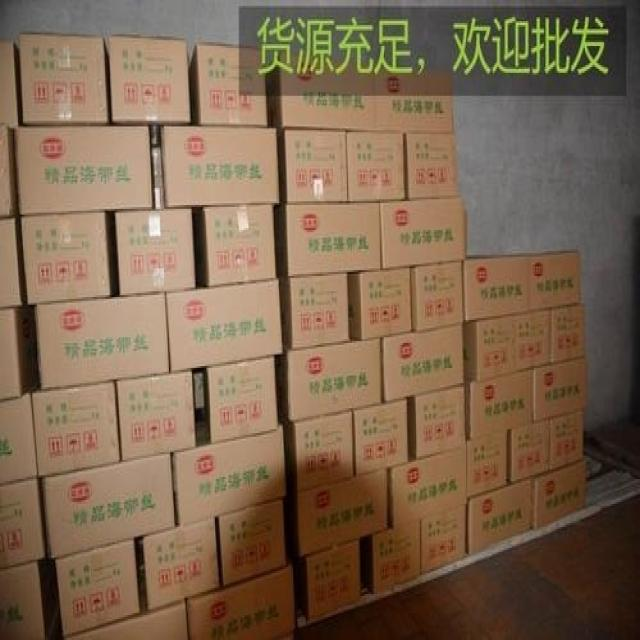box: (41, 454, 177, 558), (173, 404, 287, 525), (35, 293, 169, 389), (14, 125, 152, 215), (166, 280, 284, 374), (161, 125, 279, 207), (18, 213, 111, 309), (294, 468, 389, 560), (55, 538, 140, 638), (184, 565, 297, 640), (32, 381, 119, 477), (20, 33, 110, 125), (284, 337, 383, 420), (271, 63, 375, 138), (278, 203, 381, 276), (108, 34, 191, 123), (143, 517, 219, 611), (115, 209, 196, 297), (118, 372, 197, 460), (389, 441, 467, 529), (202, 356, 278, 446), (381, 324, 465, 404), (463, 310, 550, 385), (379, 195, 465, 270), (191, 48, 268, 128), (201, 205, 276, 286), (218, 500, 285, 586), (374, 67, 454, 134), (278, 128, 348, 203), (465, 368, 534, 441), (293, 410, 356, 489), (285, 274, 351, 349), (60, 602, 188, 640), (462, 255, 529, 326), (468, 477, 532, 550), (348, 268, 412, 339), (303, 538, 361, 615), (0, 477, 46, 569), (410, 385, 466, 460), (353, 400, 410, 473), (346, 130, 406, 199), (532, 460, 586, 529), (412, 261, 465, 331), (403, 132, 458, 199), (372, 519, 422, 592), (0, 561, 46, 640), (534, 356, 588, 423), (0, 395, 38, 487), (526, 249, 580, 312), (421, 506, 466, 577), (466, 431, 509, 498), (509, 418, 550, 485), (0, 309, 28, 402), (0, 217, 27, 309), (549, 410, 584, 471), (550, 305, 585, 364), (0, 126, 17, 217)
